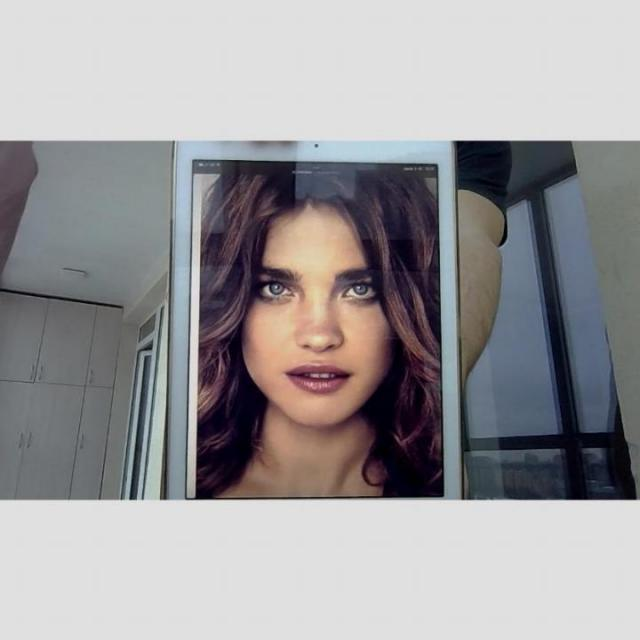device: (160, 140, 468, 498)
